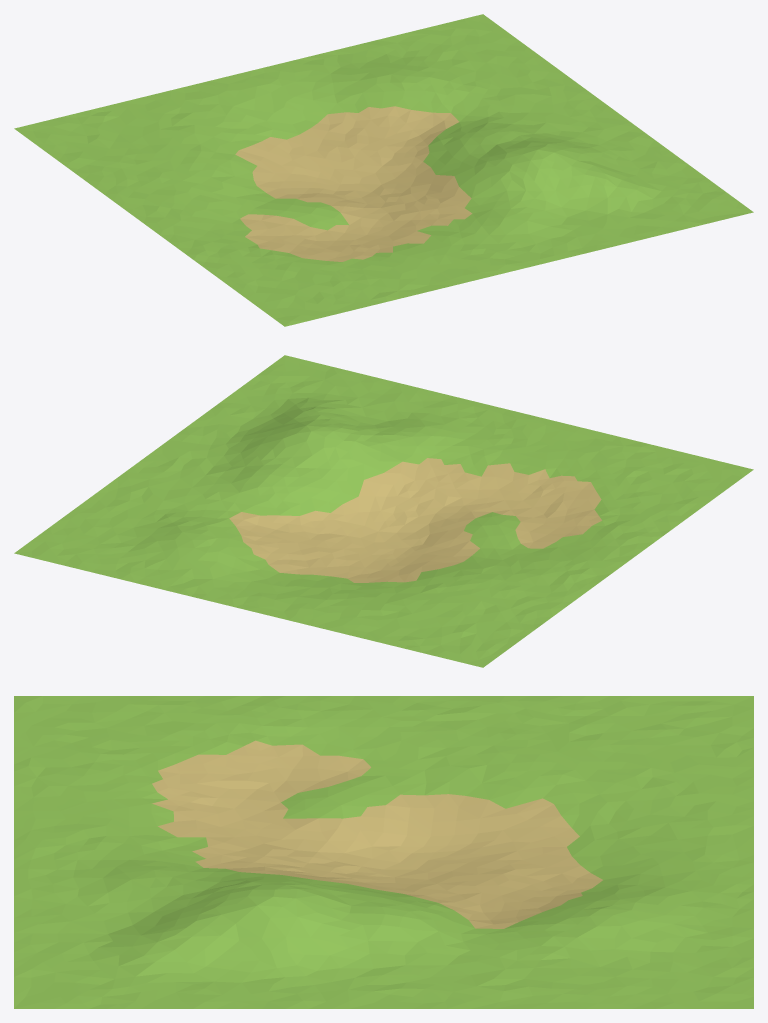
The model's file is terrain_l_d_16.glb.
The picture shows the model from 3 angles, top to bottom: view 1: azimuth 30°, elevation 25°; view 2: azimuth 150°, elevation 25°; view 3: azimuth 270°, elevation 25°; orthographic projection. The views are drawn at different scales.
Visible parts, largest first — view 1: CPT_Terrain_L_d_16; view 2: CPT_Terrain_L_d_16; view 3: CPT_Terrain_L_d_16.
Part boxes in pixels (<box>): CPT_Terrain_L_d_16: <box>14,14,753,326</box>; CPT_Terrain_L_d_16: <box>14,355,753,667</box>; CPT_Terrain_L_d_16: <box>14,696,753,1008</box>.
Bounding box in the file's own units: 100 × 8.52 × 100.
Materials: 1 (1 with a texture image).
